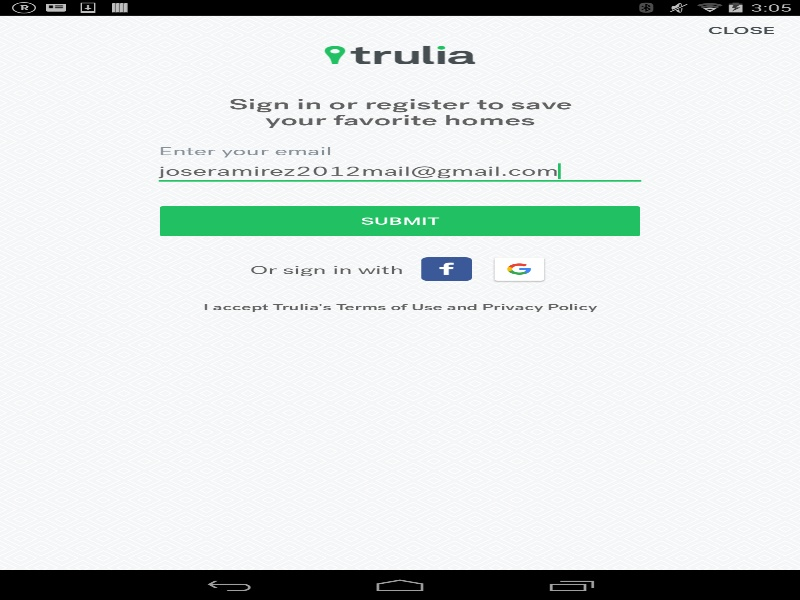Button: (160, 206, 640, 236), (682, 15, 800, 45), (489, 255, 549, 283), (421, 257, 472, 280)
Input: (153, 157, 646, 185)
